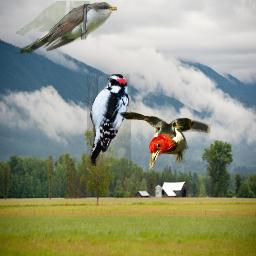Cuckoo: (16, 1, 117, 54)
Woodpecker: (114, 106, 211, 172), (85, 74, 131, 166)
